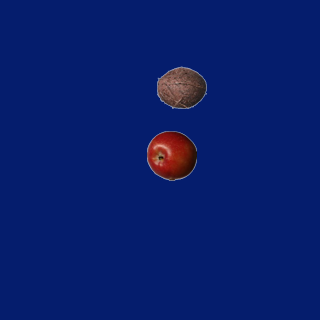Apple Braeburn: (146, 130, 196, 180)
Cocos: (156, 62, 206, 112)
